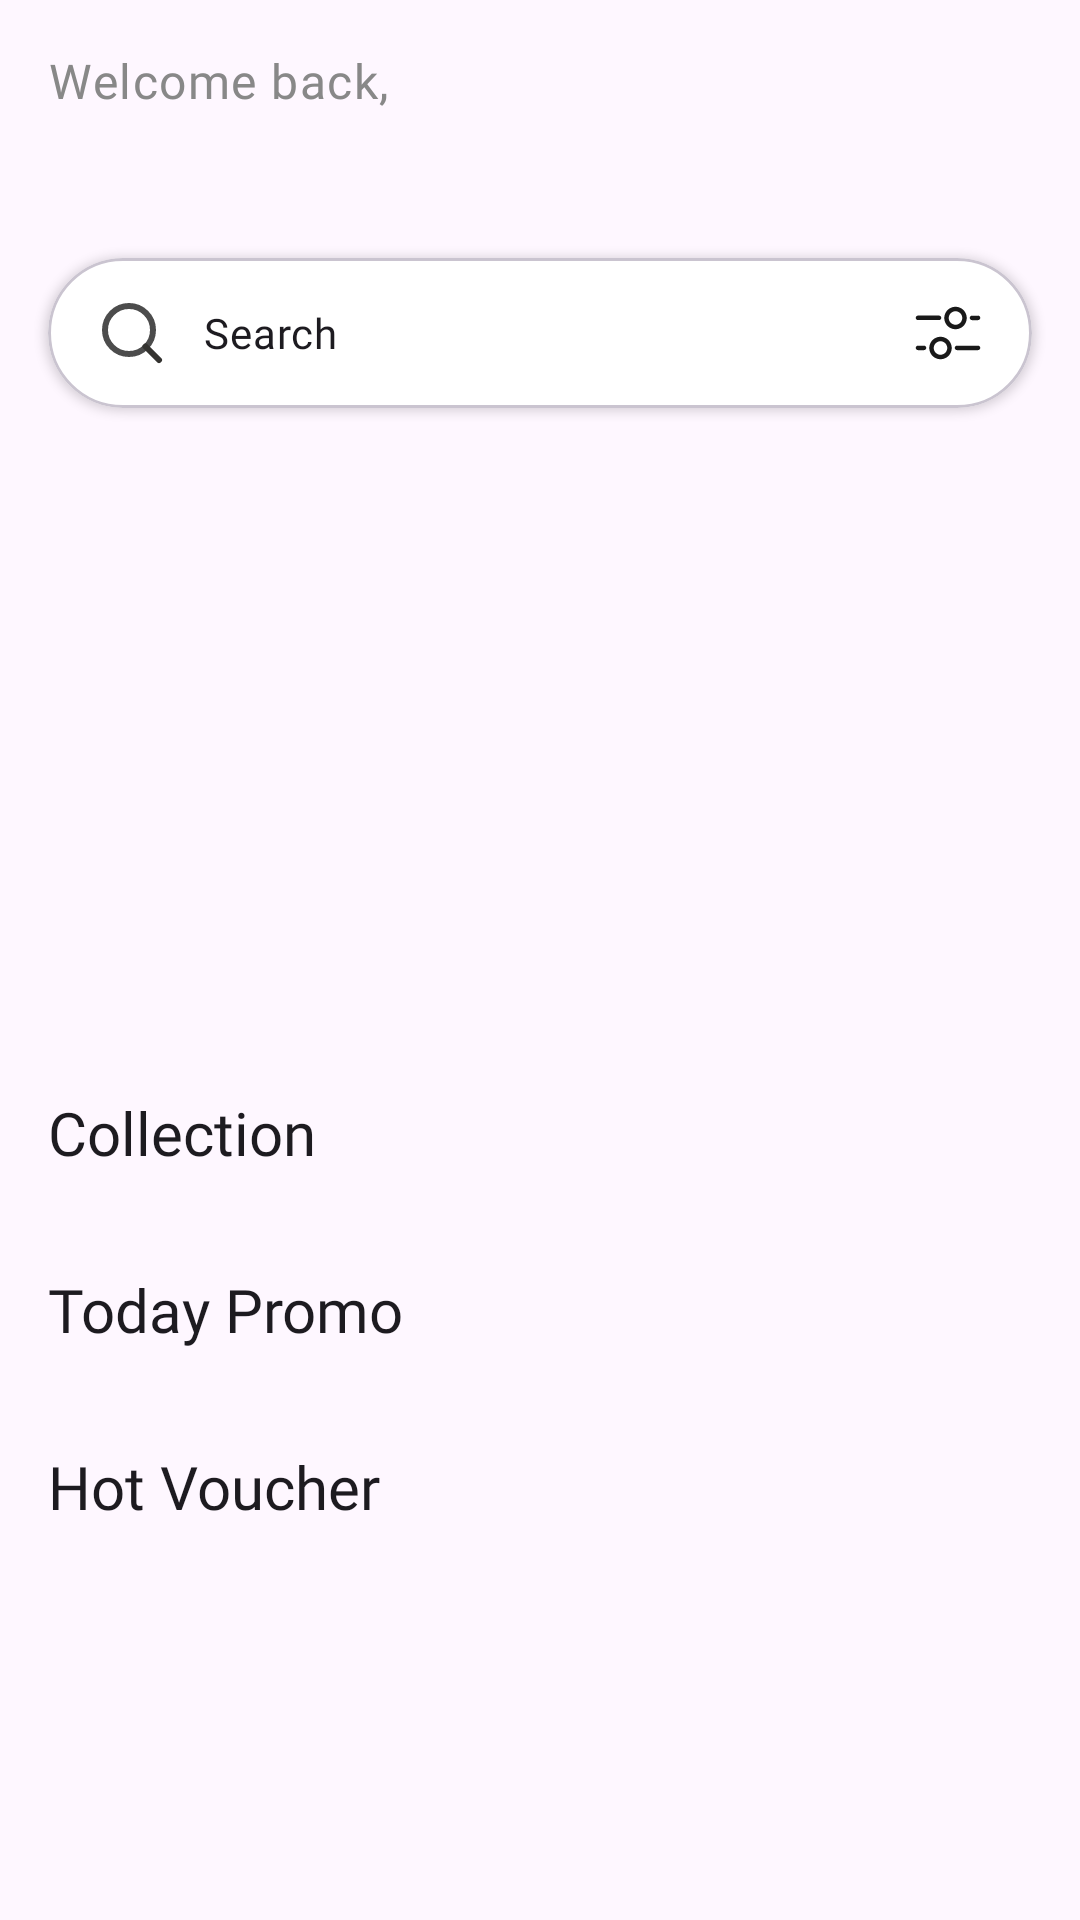

Where icons sit on this 1080*1920 app screen, as (x1, y1, x2, y2):
filter: (915, 306, 981, 360)
